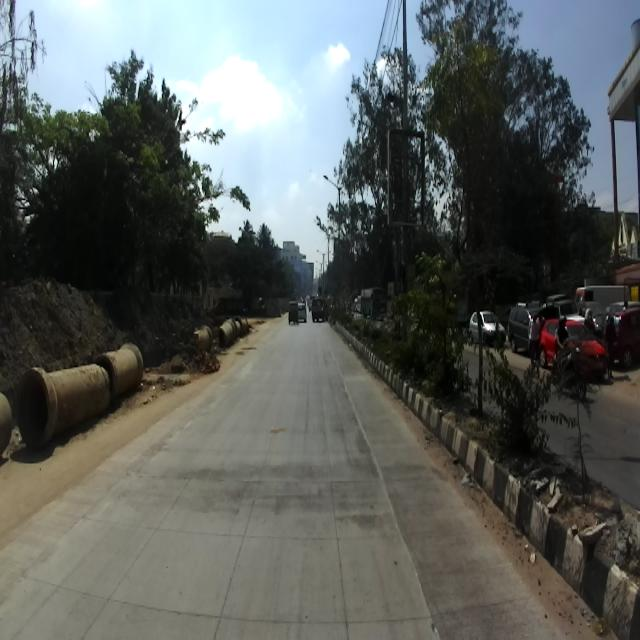barrier ahead at: (12, 334, 148, 450)
